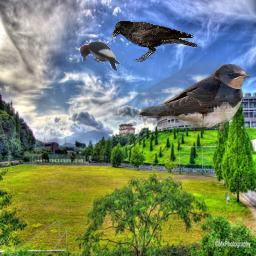Crow: (110, 20, 197, 62)
Swallow: (138, 62, 251, 134)
Woodpecker: (78, 40, 121, 72)
